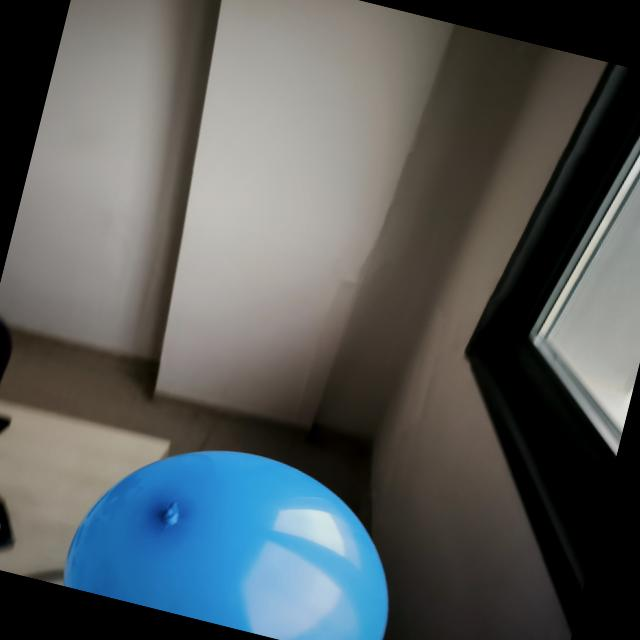balloon: (64, 451, 388, 640)
